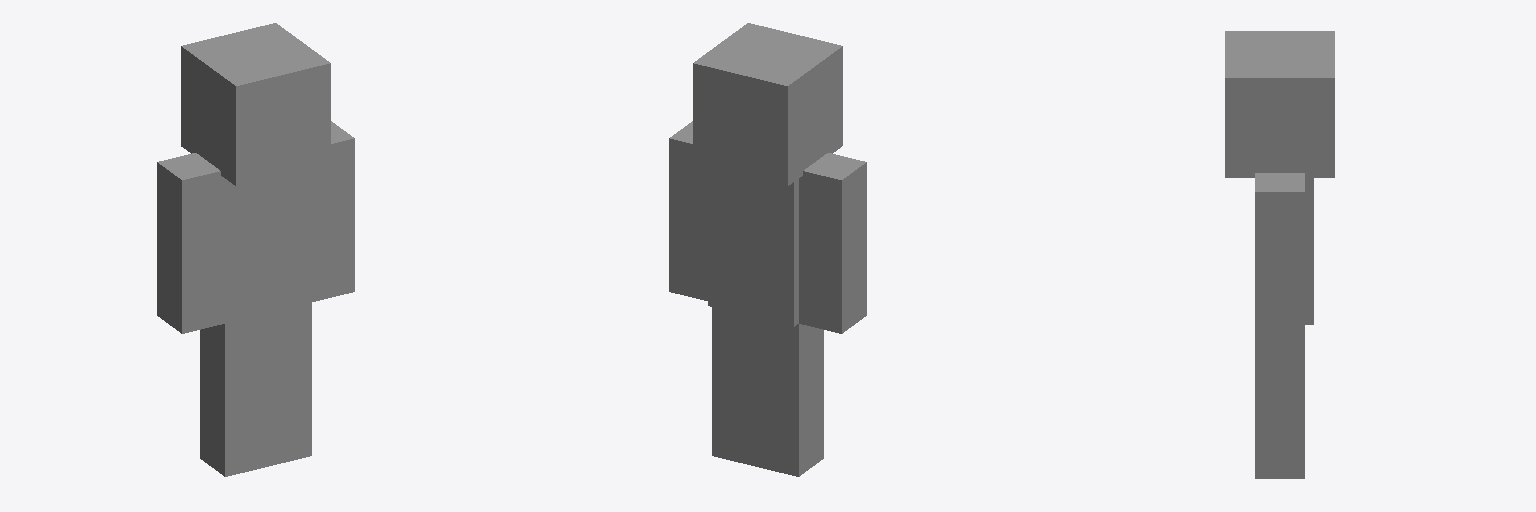
Rendered from pick1.obj.
The picture shows the model from 3 angles: view 1: azimuth 30°, elevation 25°; view 2: azimuth 150°, elevation 25°; view 3: azimuth 270°, elevation 25°; orthographic projection.
Parts seen in each view (by area): view 1: Player_Cube.001; view 2: Player_Cube.001; view 3: Player_Cube.001.
Boxes of the visible parts, x1=… form: Player_Cube.001: x1=157, y1=23, x2=354, y2=476; Player_Cube.001: x1=669, y1=23, x2=866, y2=476; Player_Cube.001: x1=1225, y1=31, x2=1334, y2=478.
Bounding box in the file's own units: 0.8 × 1.78 × 0.4433.